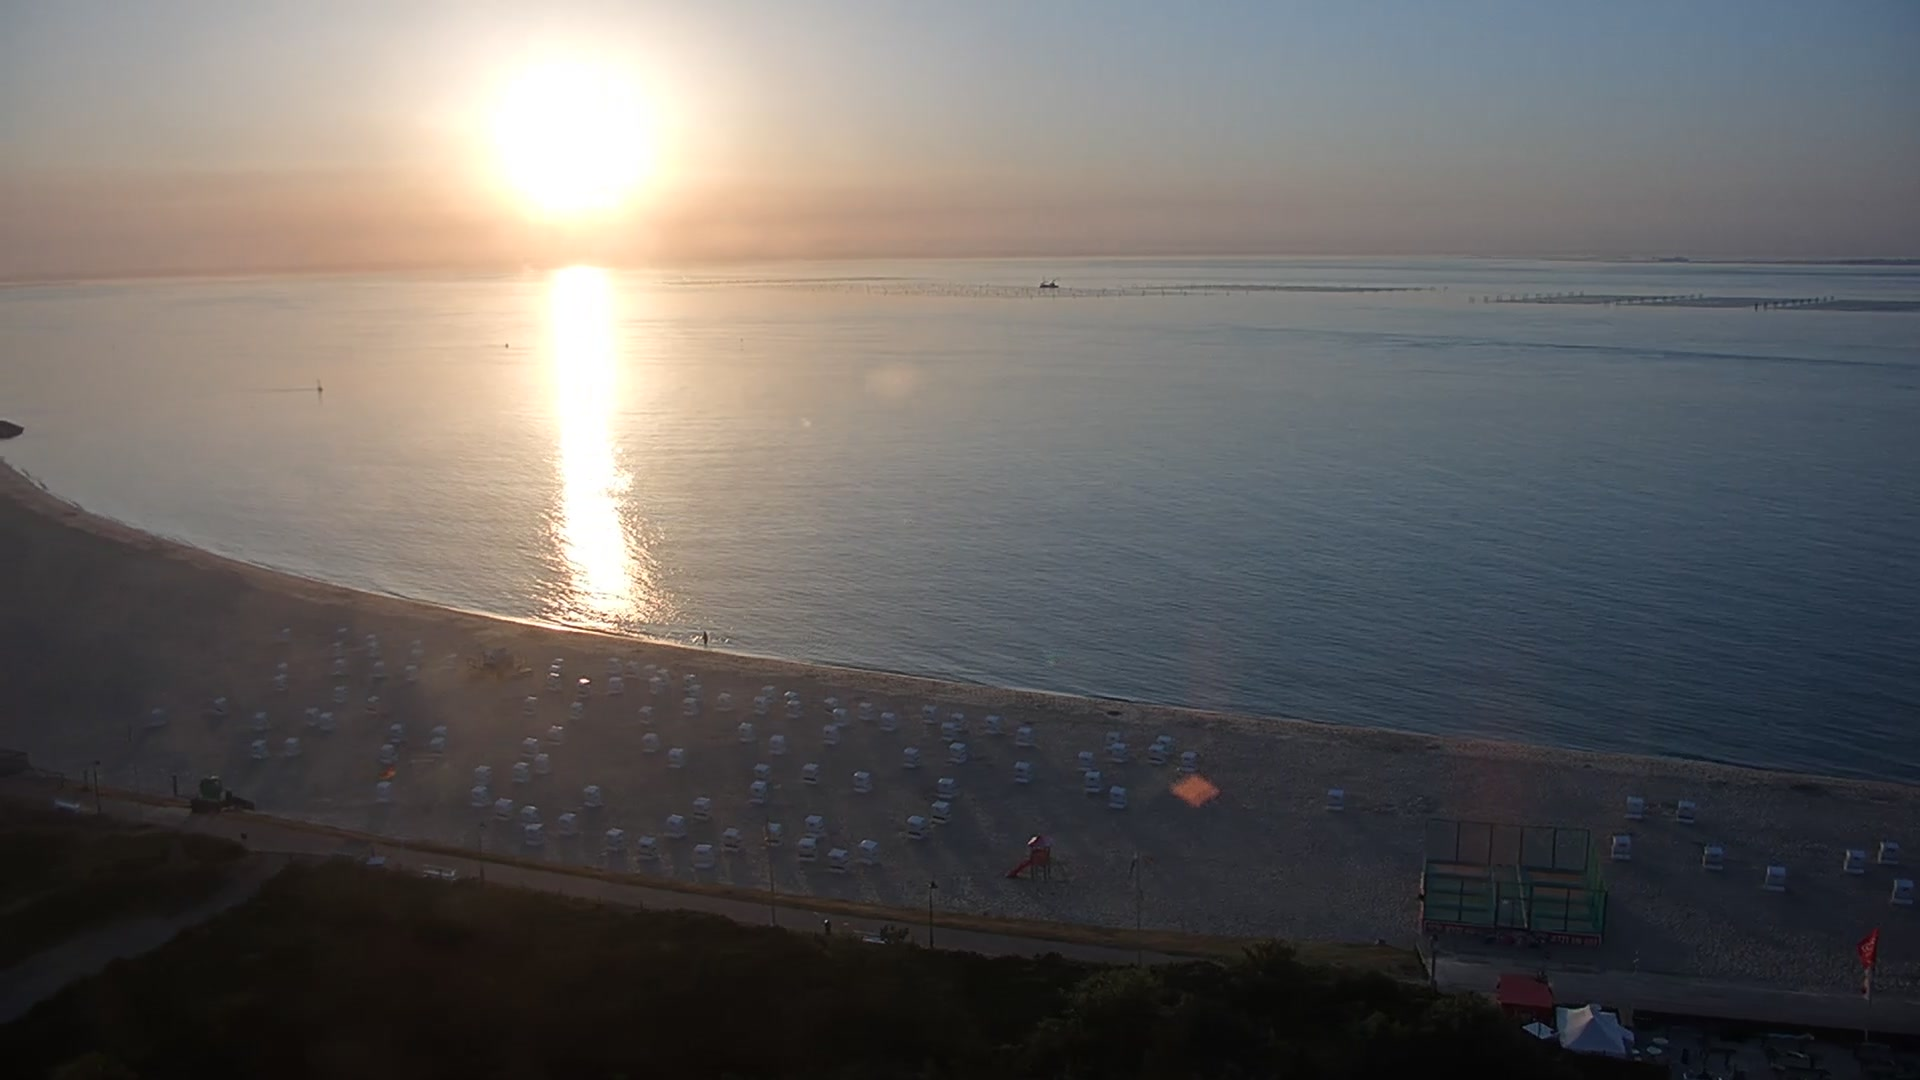human: (701, 627, 708, 647)
sea: (1037, 277, 1057, 288)
